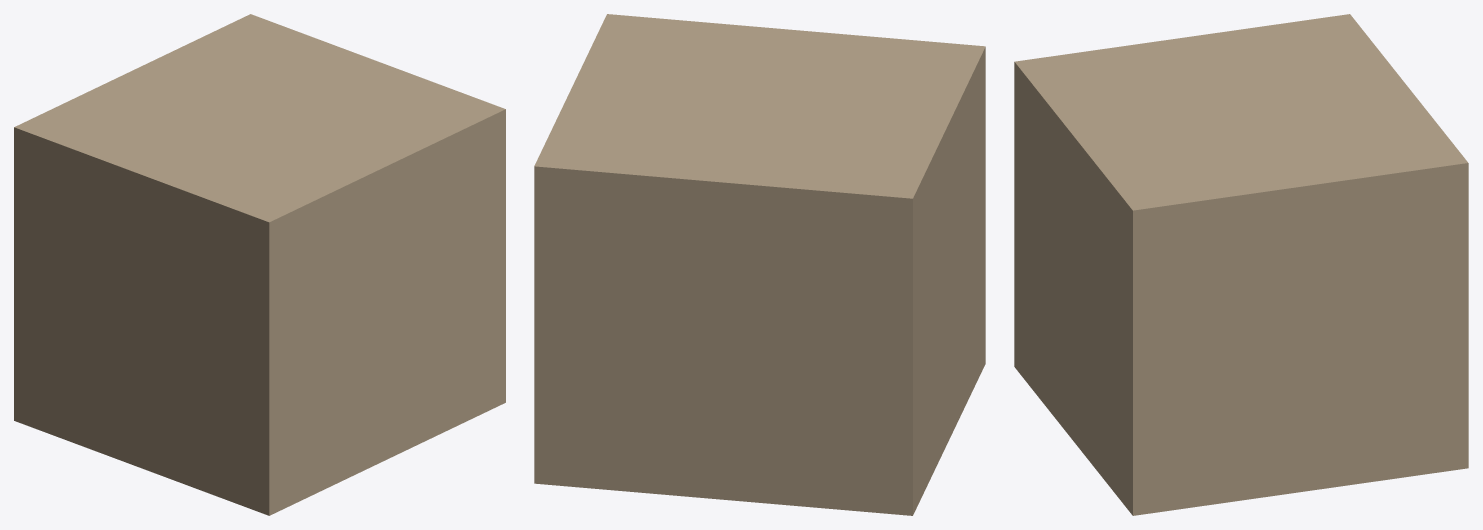
File: bld_106339006.dae
The picture shows the model from 3 angles, left to right: view 1: azimuth 30°, elevation 25°; view 2: azimuth 150°, elevation 25°; view 3: azimuth 270°, elevation 25°; orthographic projection. The views are drawn at different scales.
Parts seen in each view (by area): view 1: bld_106339006; view 2: bld_106339006; view 3: bld_106339006.
Boxes of the visible parts, x1,y1,x2,y2 form: bld_106339006: [14, 14, 505, 515]; bld_106339006: [534, 14, 985, 515]; bld_106339006: [1014, 14, 1468, 515].
Size of the model in its own units: 11.05 by 10.78 by 8.
